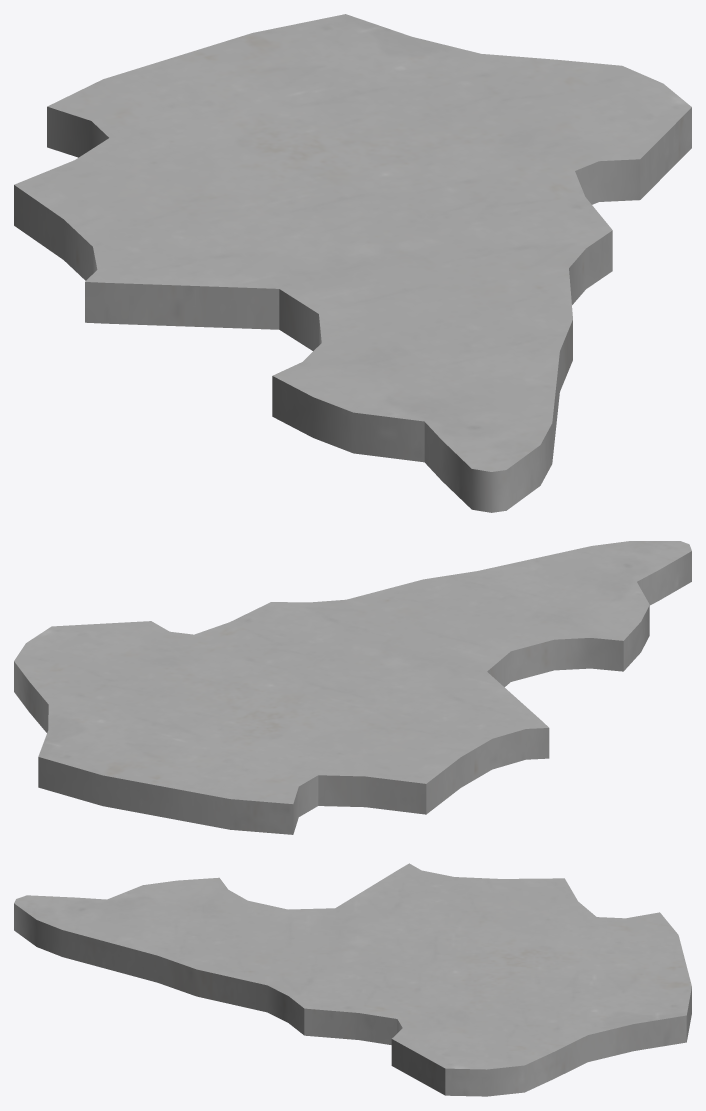
The model's file is SM_Ground_Debris_S2.fbx.
3 renders of one model, top to bottom at view 1: azimuth 30°, elevation 25°; view 2: azimuth 150°, elevation 25°; view 3: azimuth 270°, elevation 25°, orthographic. The views are drawn at different scales.
Visible parts, largest first — view 1: SM_Ground_Debris_S2_LOD0; view 2: SM_Ground_Debris_S2_LOD0; view 3: SM_Ground_Debris_S2_LOD0.
Part boxes in pixels (bbox=[...]): SM_Ground_Debris_S2_LOD0: bbox=[14, 14, 691, 512]; SM_Ground_Debris_S2_LOD0: bbox=[14, 541, 691, 834]; SM_Ground_Debris_S2_LOD0: bbox=[14, 863, 691, 1096].
Size of the model in its own units: 77.86 by 108 by 4.77.
1 material, 1 textured.
